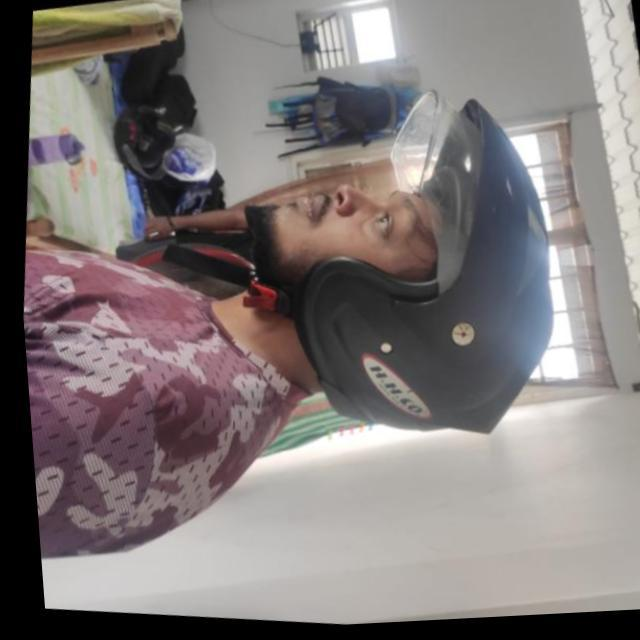with_helmet: (241, 93, 555, 436)
